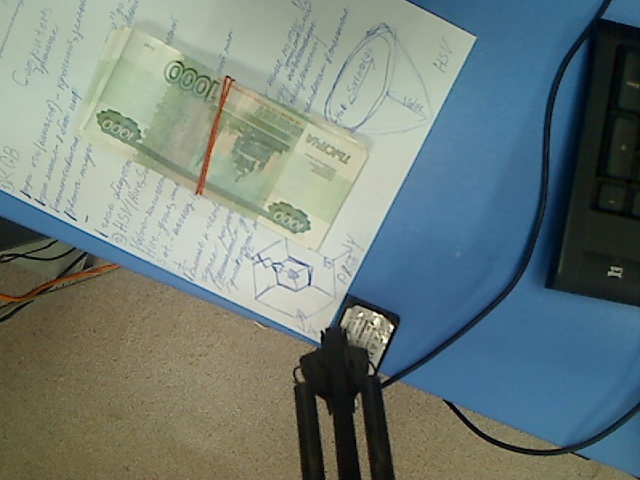banknotes: (71, 24, 371, 253)
